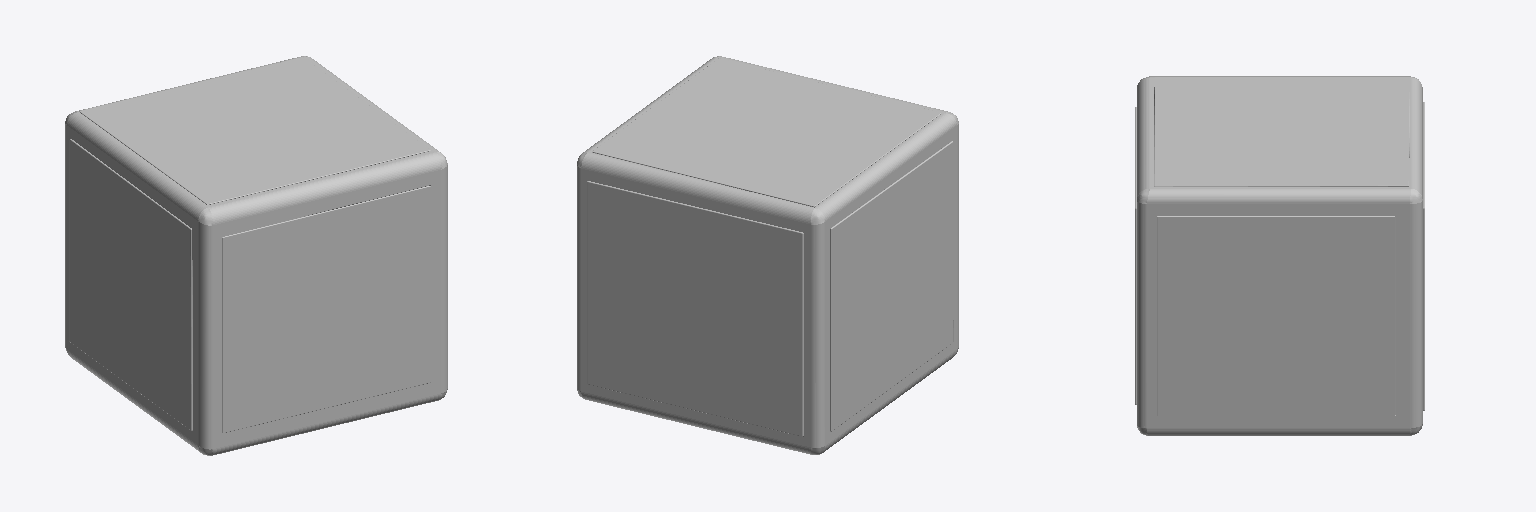
The model's file is kostka.obj.
3 renders of one model, left to right at view 1: azimuth 30°, elevation 25°; view 2: azimuth 150°, elevation 25°; view 3: azimuth 270°, elevation 25°, orthographic.
Parts seen in each view (by area): view 1: obraz1, bubble, obraz5, obraz4; view 2: obraz3, obraz5, bubble, obraz4; view 3: obraz2, obraz5, bubble, obraz3, obraz1.
Boxes of the visible parts, <box> form: obraz1: <box>222,186,430,432</box>; bubble: <box>65,56,447,455</box>; obraz5: <box>79,57,430,204</box>; obraz4: <box>69,139,192,430</box>; obraz3: <box>587,181,803,436</box>; obraz5: <box>592,58,941,206</box>; bubble: <box>577,56,958,454</box>; obraz4: <box>830,141,953,431</box>; obraz2: <box>1157,216,1395,415</box>; obraz5: <box>1154,77,1409,186</box>; bubble: <box>1137,76,1422,435</box>; obraz3: <box>1423,102,1424,410</box>; obraz1: <box>1135,107,1136,404</box>.
Size of the model in its own units: 48.03 by 45.68 by 48.12.